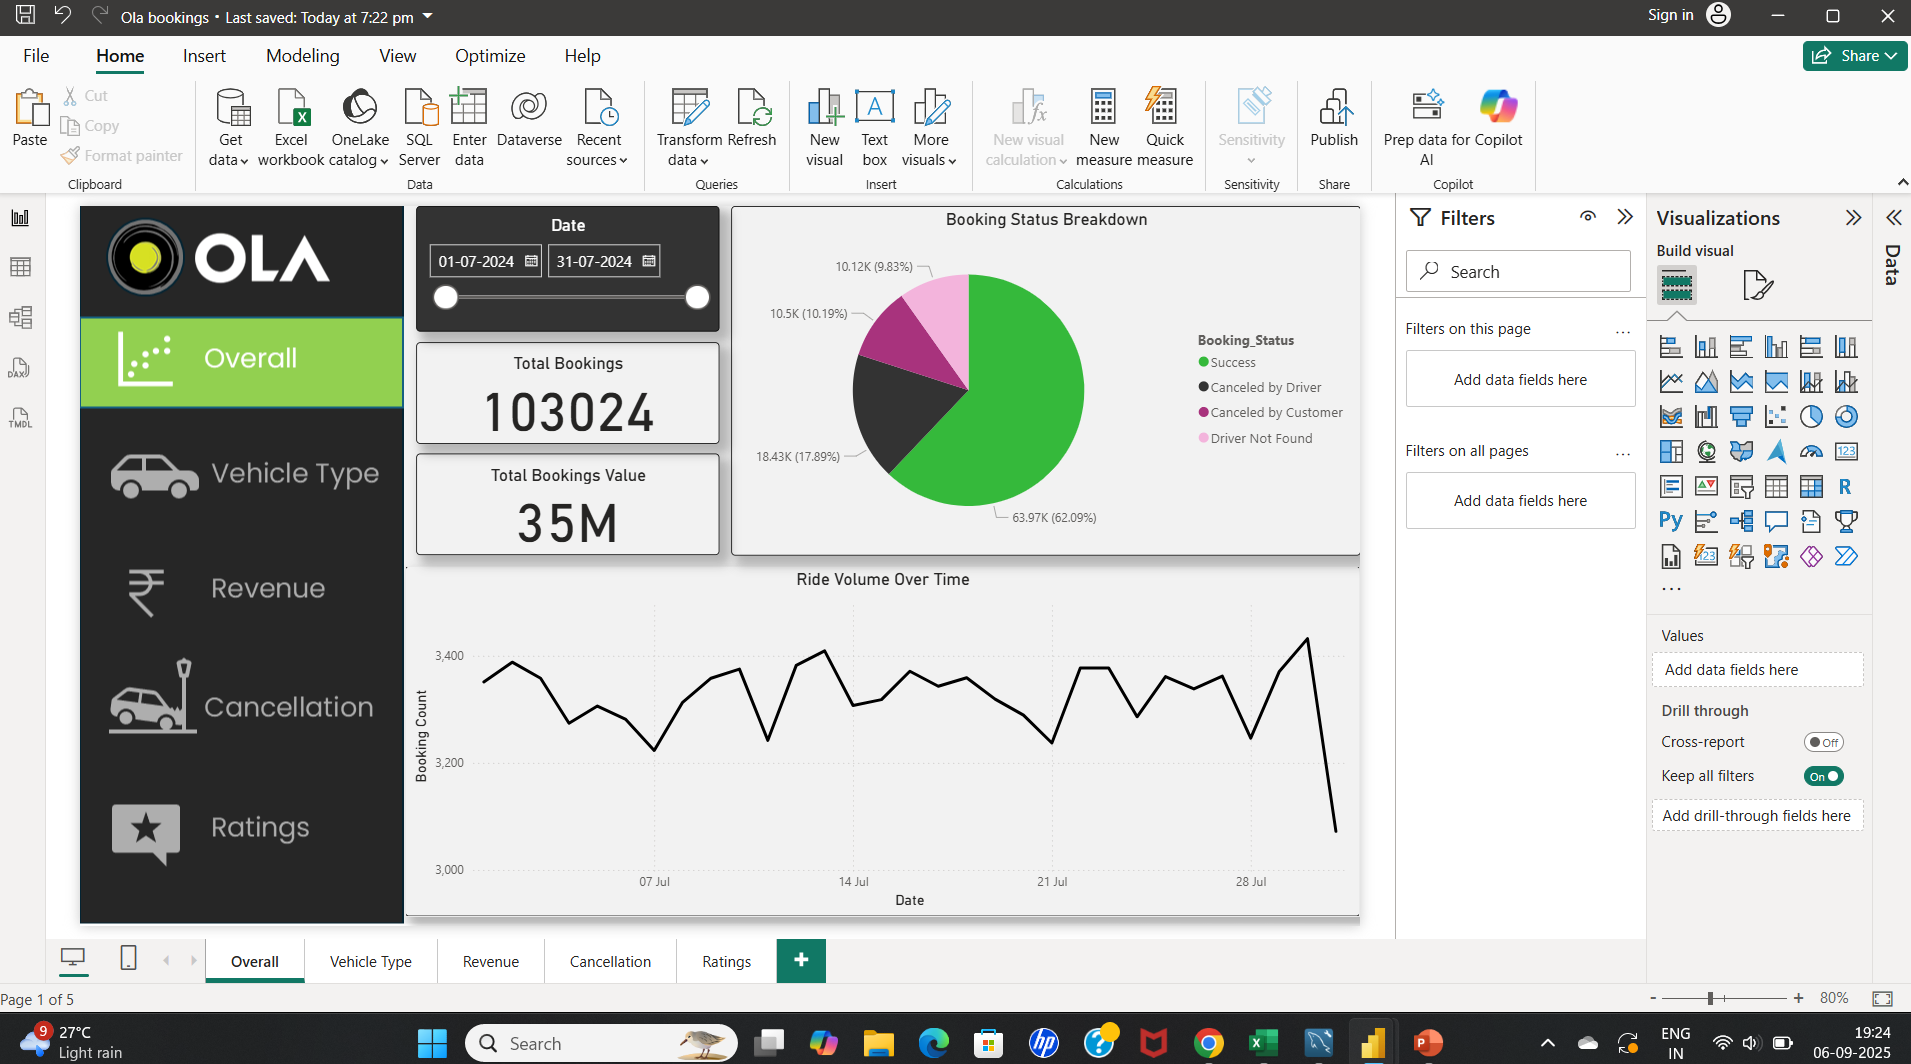

The page's visual inventory and layout, read from the dashboard file:
{"tool":"powerbi","page":{"name":"Overall","canvas":[1280,720],"ordinal":0},"visuals":[{"type":"actionButton","box":[0,220.8,325.7,92.9],"z":0},{"type":"actionButton","box":[0,339,325.7,92.9],"z":1000},{"type":"actionButton","box":[0,445.2,325.7,92.9],"z":2000},{"type":"actionButton","box":[0,575.5,325.7,92.9],"z":3000},{"type":"lineChart","title":"Ride Volume Over Time","fields":{"Y":["July.Booking_ID"],"Category":["July.Date"]},"box":[325.4,360.6,954.9,350.7],"z":4000},{"type":"pieChart","title":"Booking Status Breakdown","fields":{"Category":["July.Booking_Status"],"Y":["July.Booking_Status"]},"box":[650.7,0,629.6,349.3],"z":5000},{"type":"slicer","title":"Date","fields":{"Values":["July.Date"]},"box":[336.6,0,302.8,125.4],"z":6000},{"type":"card","title":"Total Bookings","fields":{"Values":["July.Booking_ID"]},"box":[336.6,136.6,302.8,101.4],"z":7000},{"type":"card","title":"Total Bookings Value","fields":{"Values":["July.Booking_Value"]},"box":[336.6,247.9,302.8,101.4],"z":8000}]}

Visuals, with their boxes on the page's 1280x720 design canvas (x1, y1, x2, y2). These are canvas units, not pixel positions in the 1911x1064 screenshot, which may show the page scaled, cropped or inside an application window:
actionButton: 0, 221, 326, 314
actionButton: 0, 339, 326, 432
actionButton: 0, 445, 326, 538
actionButton: 0, 576, 326, 668
"Ride Volume Over Time" lineChart: 325, 361, 1280, 711
"Booking Status Breakdown" pieChart: 651, 0, 1280, 349
"Date" slicer: 337, 0, 639, 125
"Total Bookings" card: 337, 137, 639, 238
"Total Bookings Value" card: 337, 248, 639, 349
